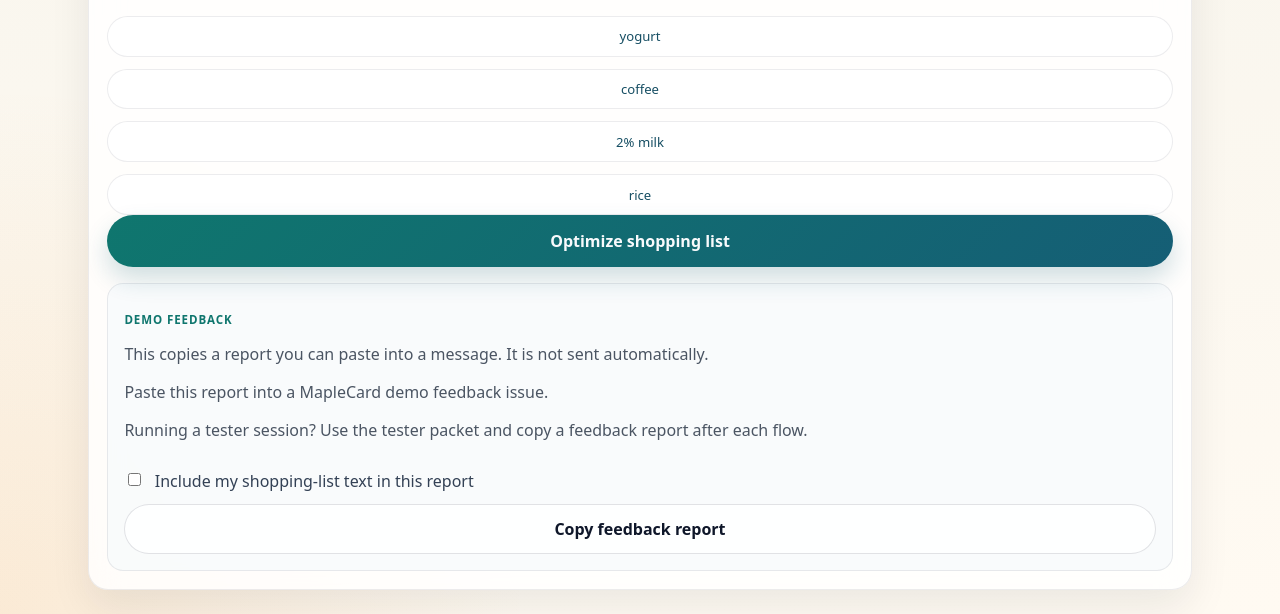
Test: MapleCard mobile web scaffold › copies a privacy-safe feedback report by default
(page scrolled)
Click the button "Copy feedback report" at [640, 529], box [124,504,1156,554]
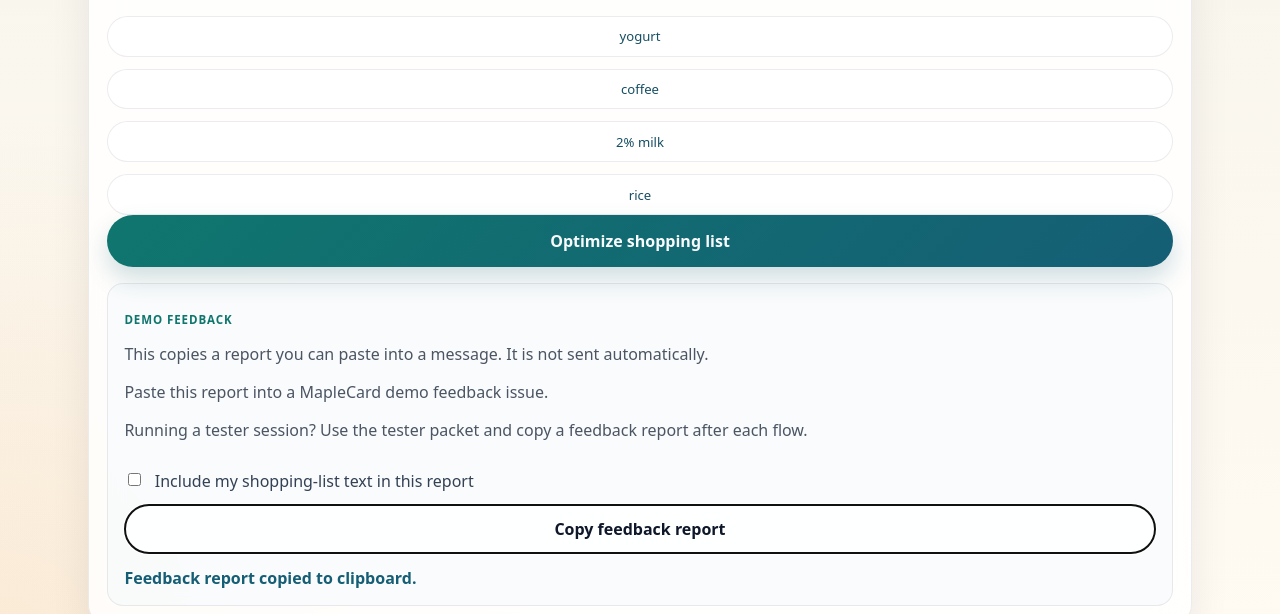
Now the message shows "Feedback report copied to clipboard", box [124,567,416,589]
